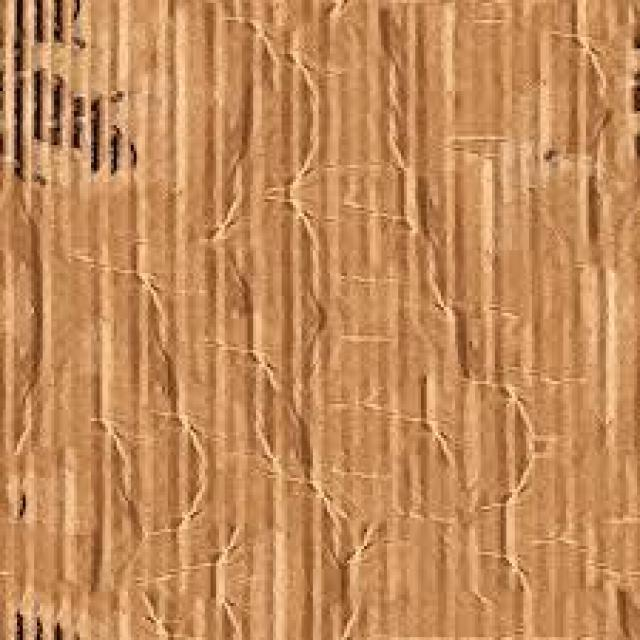PaperCardboard: (2, 0, 637, 634)
